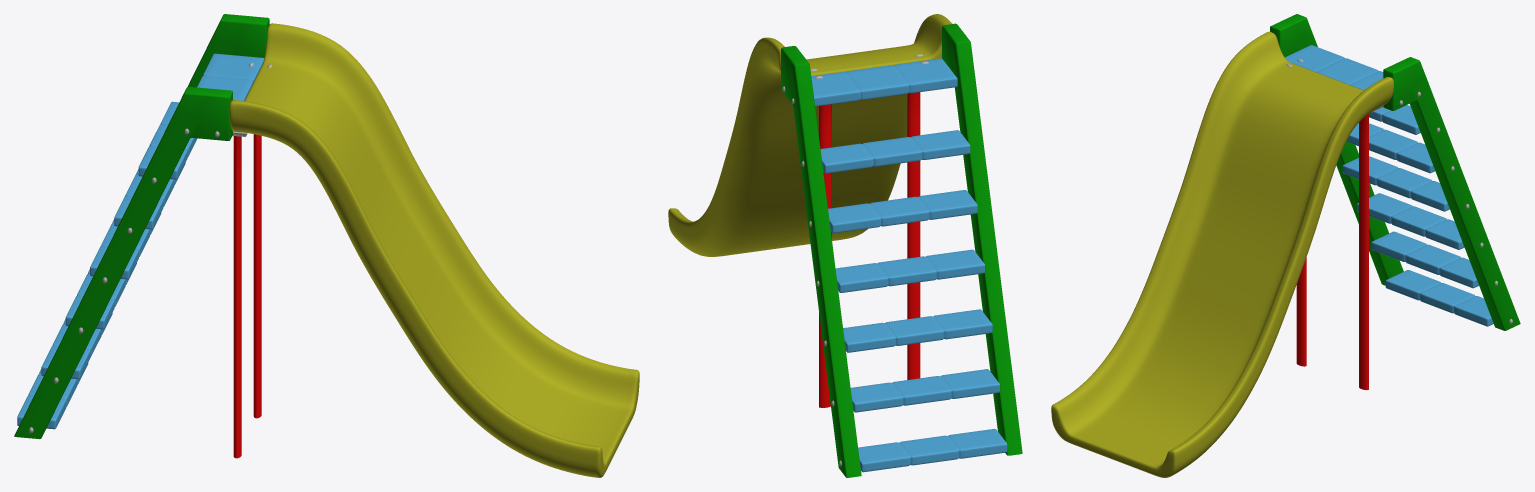
Rendered from slide.fbx.
The picture shows the model from 3 angles, left to right: view 1: azimuth 30°, elevation 25°; view 2: azimuth 150°, elevation 25°; view 3: azimuth 270°, elevation 25°; orthographic projection. The views are drawn at different scales.
Parts seen in each view (by area): view 1: Slide; view 2: Slide; view 3: Slide.
Boxes of the visible parts, left/top/right/bottom form: Slide: left=14, top=14, right=639, bottom=477; Slide: left=668, top=14, right=1022, bottom=477; Slide: left=1051, top=14, right=1520, bottom=477.
Size of the model in its own units: 826 by 602 by 782.
